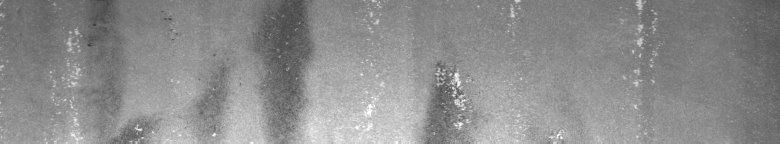hc: (364, 8, 560, 136)
